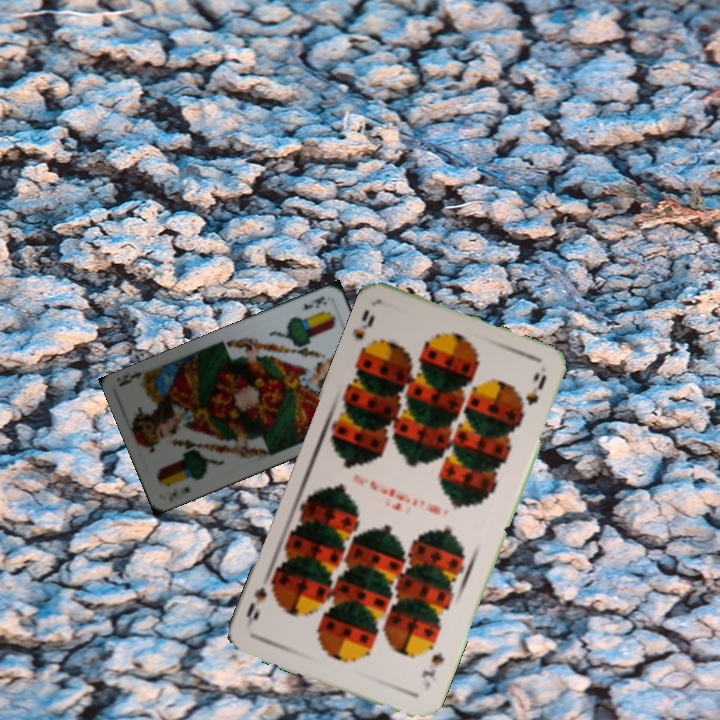EK: (298, 292, 330, 314), (165, 483, 193, 504)
S9: (349, 305, 378, 360), (417, 649, 447, 694)
